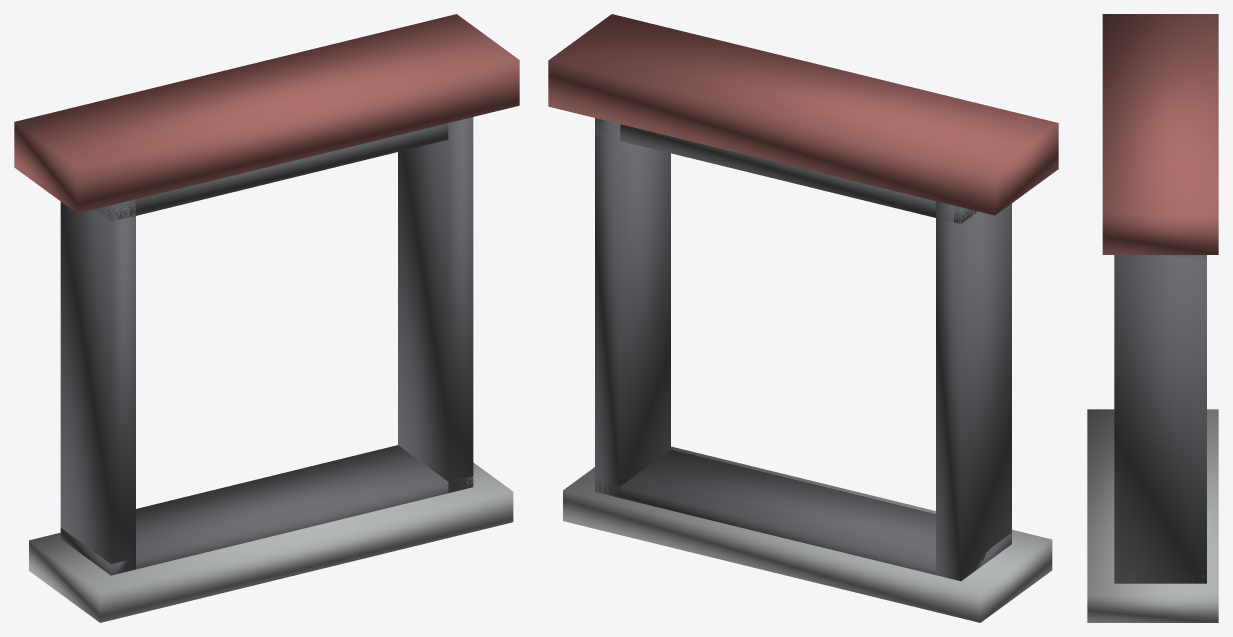
The model's file is egress_window_brick_w86_h90_s55_d24.glb.
The picture shows the model from 3 angles, left to right: view 1: azimuth 30°, elevation 25°; view 2: azimuth 150°, elevation 25°; view 3: azimuth 270°, elevation 25°; orthographic projection. The views are drawn at different scales.
Visible parts, largest first — view 1: world; view 2: world; view 3: world.
Part boxes in pixels (box(x1,y1,x2,y2)): world: box(14, 14, 519, 622); world: box(548, 14, 1058, 622); world: box(1087, 14, 1218, 622).
Bounding box in the file's own units: 1.22 × 1.19 × 0.34.
